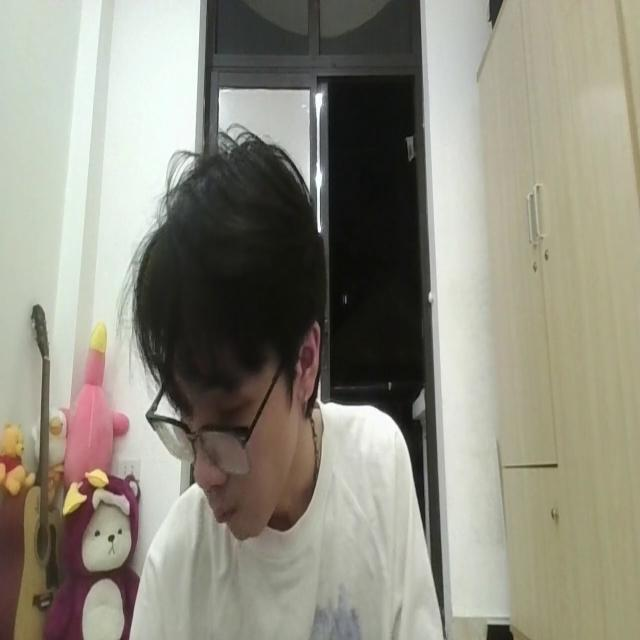student: (116, 122, 440, 640)
